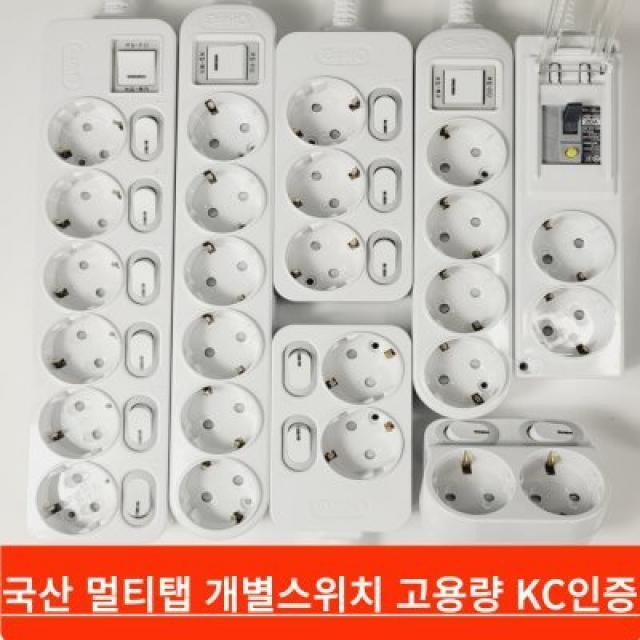typeb: (34, 12, 179, 531), (176, 6, 275, 540), (271, 8, 414, 314), (519, 31, 621, 384), (418, 16, 509, 407), (272, 325, 411, 516), (430, 423, 599, 530)
